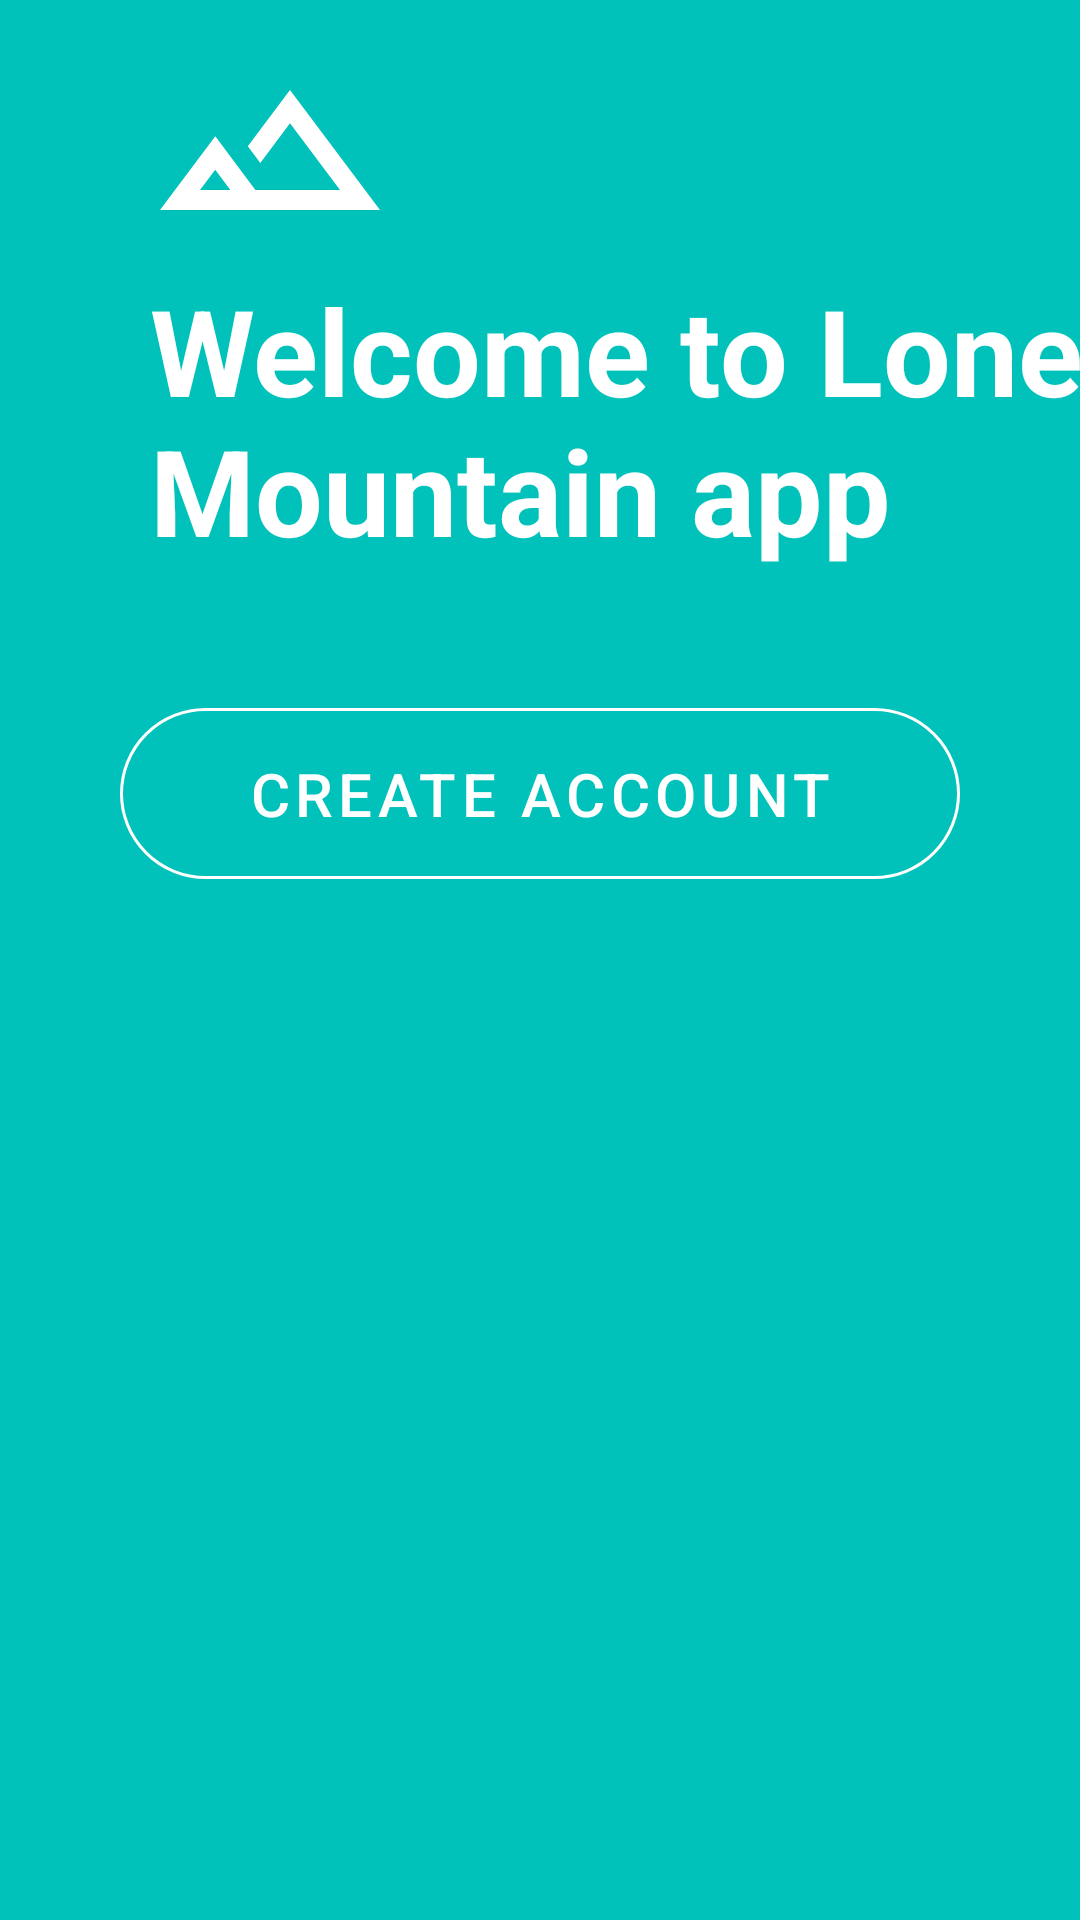

Locate icon controls on the screen. Image size 1080 x 1920, boxes as (x1, y1, x2, y2).
terrain: (160, 90, 380, 210)
